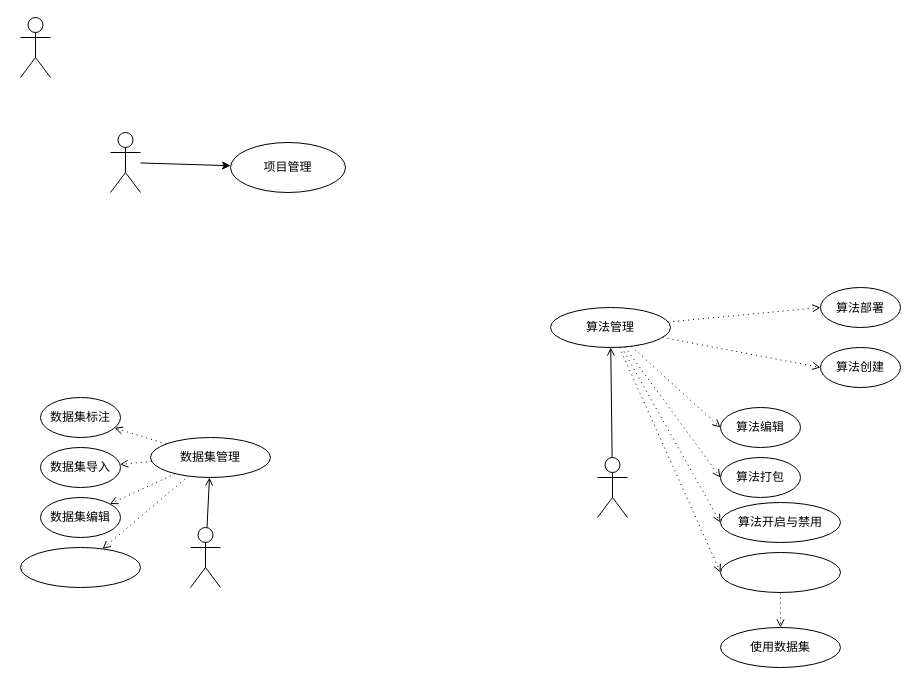
The diagram is 918 pixels wide and 685 high, and some of its shapes have lost their labels. The box of each missing label's shape, as (x1, y1, x2, y2) in pixels:
数据标注/管理人员: (190, 526, 220, 588)
数据集开启与禁用: (20, 546, 140, 588)
普通用户: (110, 132, 140, 192)
算法研发: (720, 552, 840, 592)
算法研发人员: (596, 456, 628, 518)
管理员: (20, 16, 50, 78)
